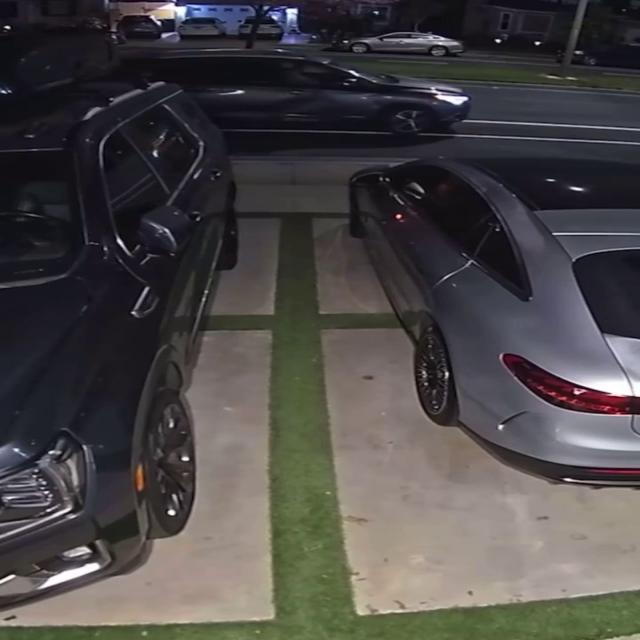Theft - Alert: (348, 158, 639, 486), (123, 50, 470, 136)
